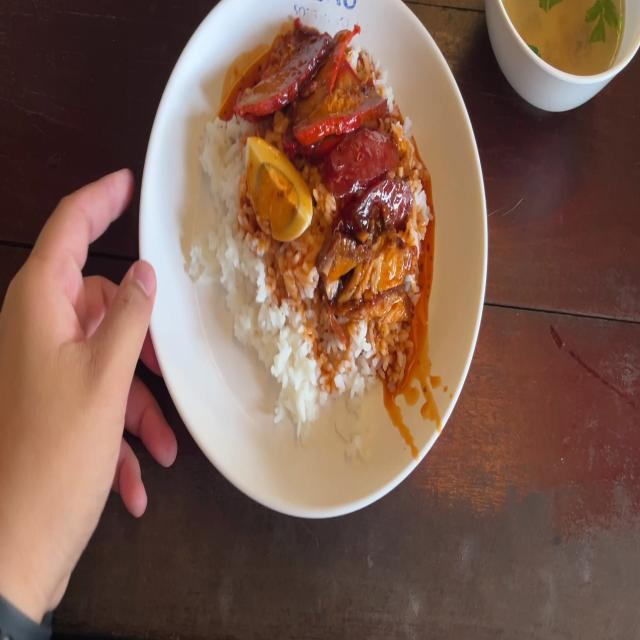red_pork_and_crispy_pork: (242, 140, 312, 231)
stir_fried_basil: (321, 133, 421, 220)
